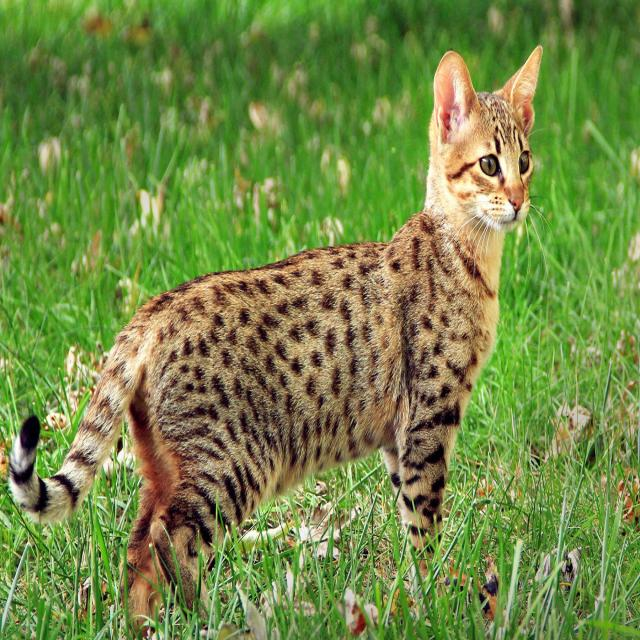Savannah: (6, 40, 548, 640)
